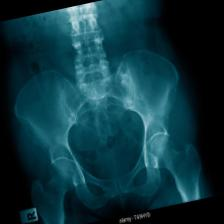spiral-fracture: (0, 0, 212, 224)
